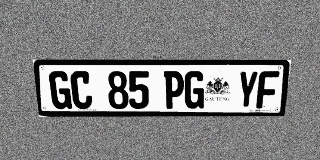5: (128, 71, 149, 109)
8: (107, 71, 129, 109)
C: (70, 71, 93, 109)
F: (256, 71, 280, 109)
G: (48, 71, 72, 109), (184, 71, 205, 109)
P: (164, 71, 184, 109)
Y: (236, 71, 259, 109)
